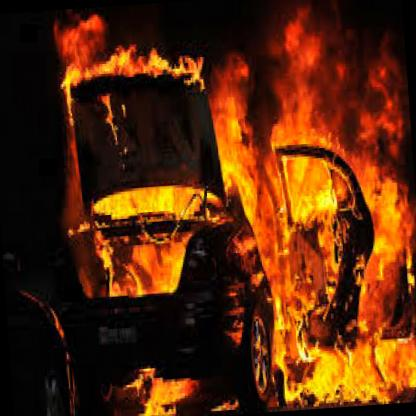fire: (47, 14, 406, 371)
